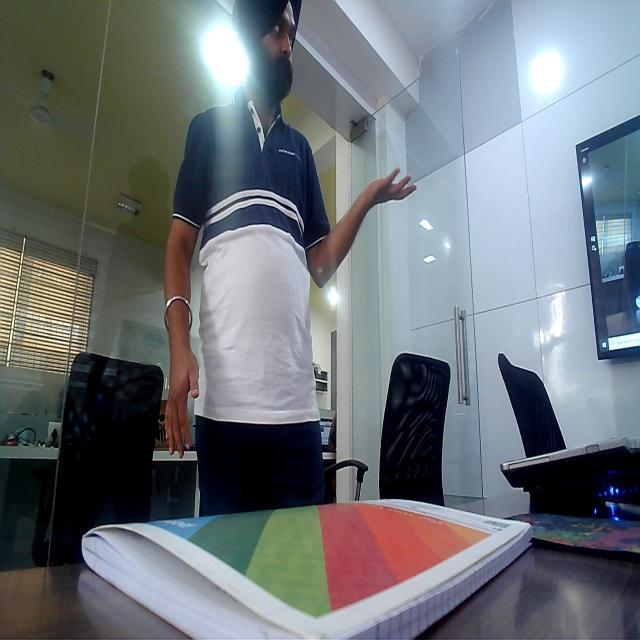without_gloves: (158, 336, 204, 466), (357, 164, 418, 232)
